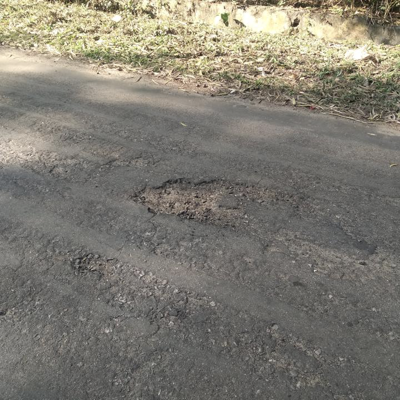pothole: (130, 175, 294, 229), (70, 252, 118, 282)
